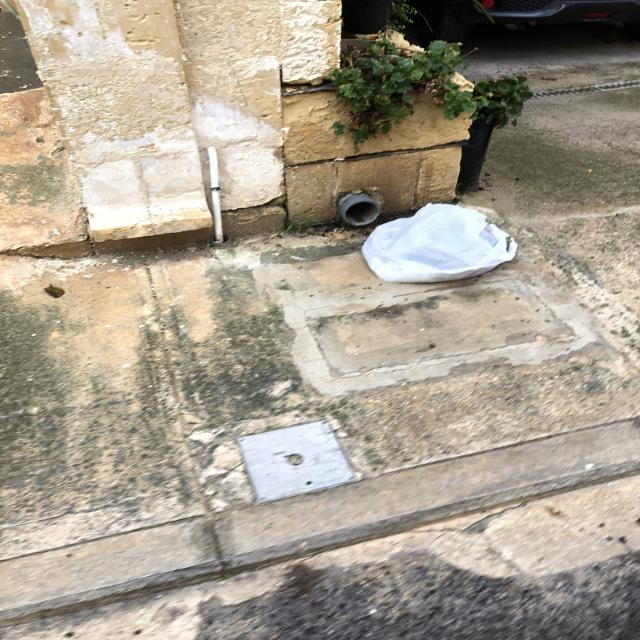Organic Waste -White Bag-: (360, 204, 520, 285)
